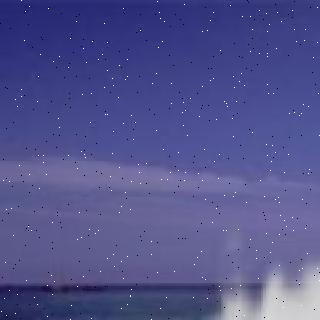smoke: (167, 231, 320, 320)
